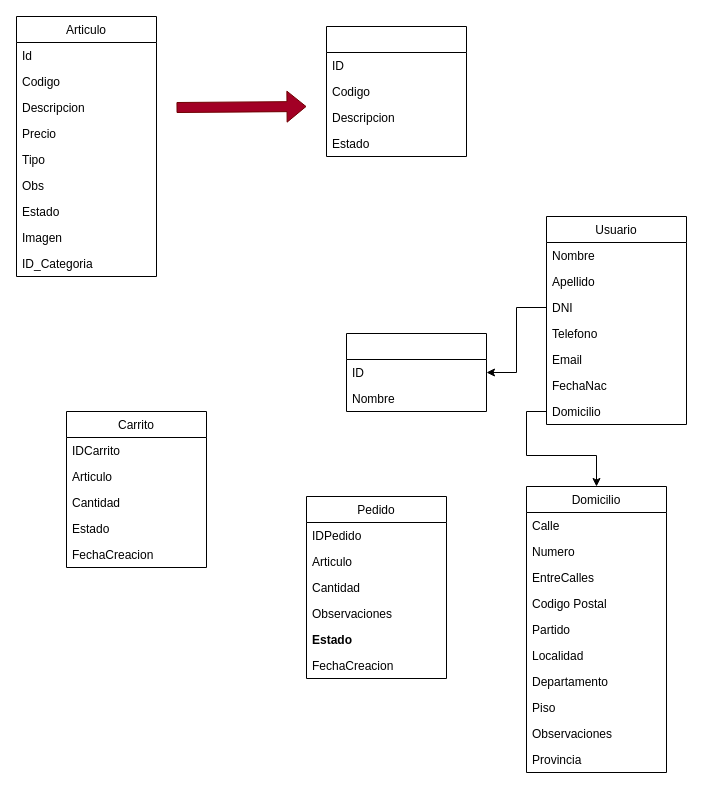
Some shapes in this 703 by 789 pixel diagram are drawn without their labels. The box of each missing label's shape, as (x1, y1, x2, y2) in pixels:
Categoria: (326, 26, 466, 156)
TipoUsuario: (346, 332, 486, 412)
